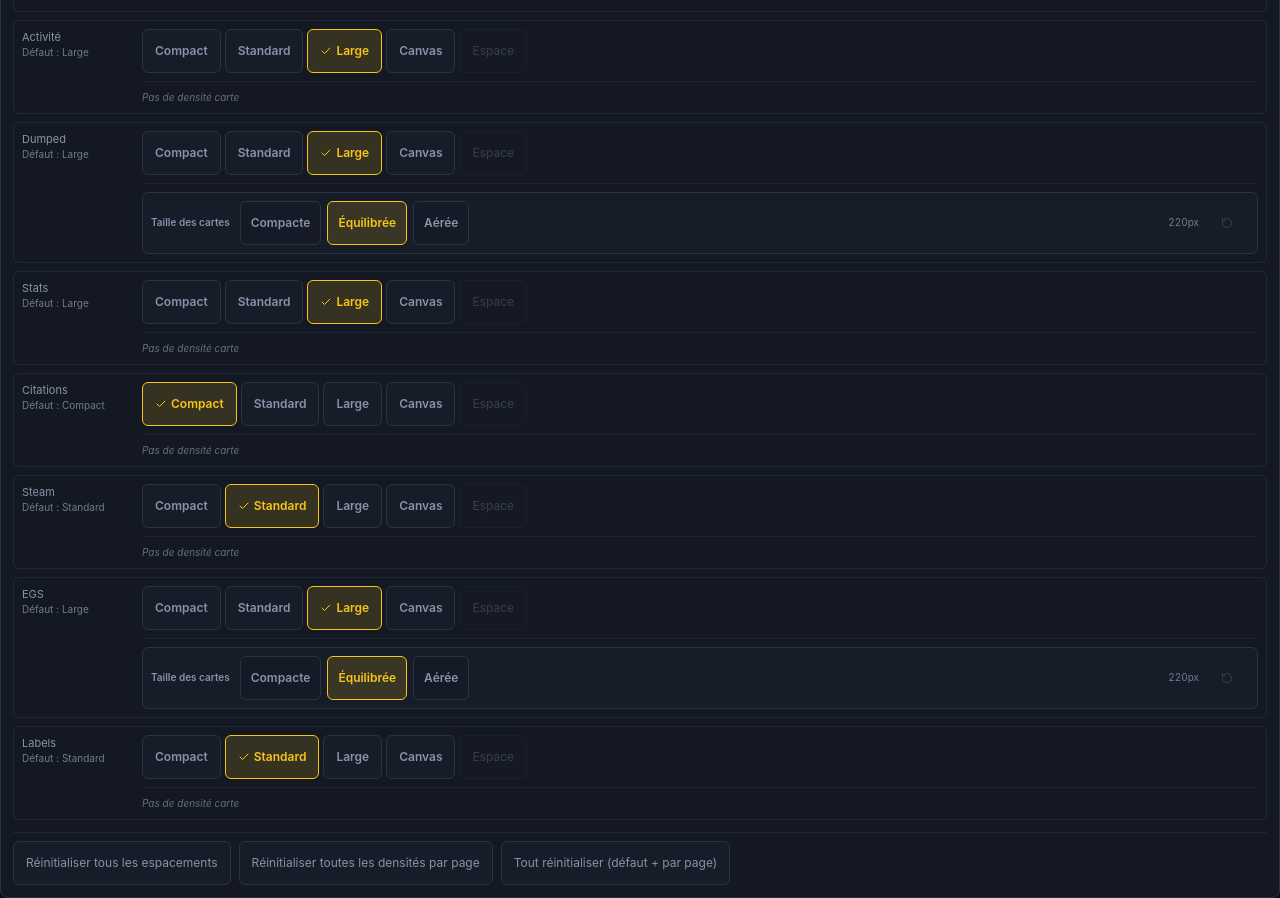
Test: LayoutSettingsTab › applies reset-all actions
(page scrolled)
expect the button "Réinitialiser toutes les densités par page" is enabled: met, box x1=239 y1=840 x2=493 y2=884
Click the button "Réinitialiser tous les espacements". click: [122, 862]
box: x1=13 y1=840 x2=231 y2=884
(page scrolled)
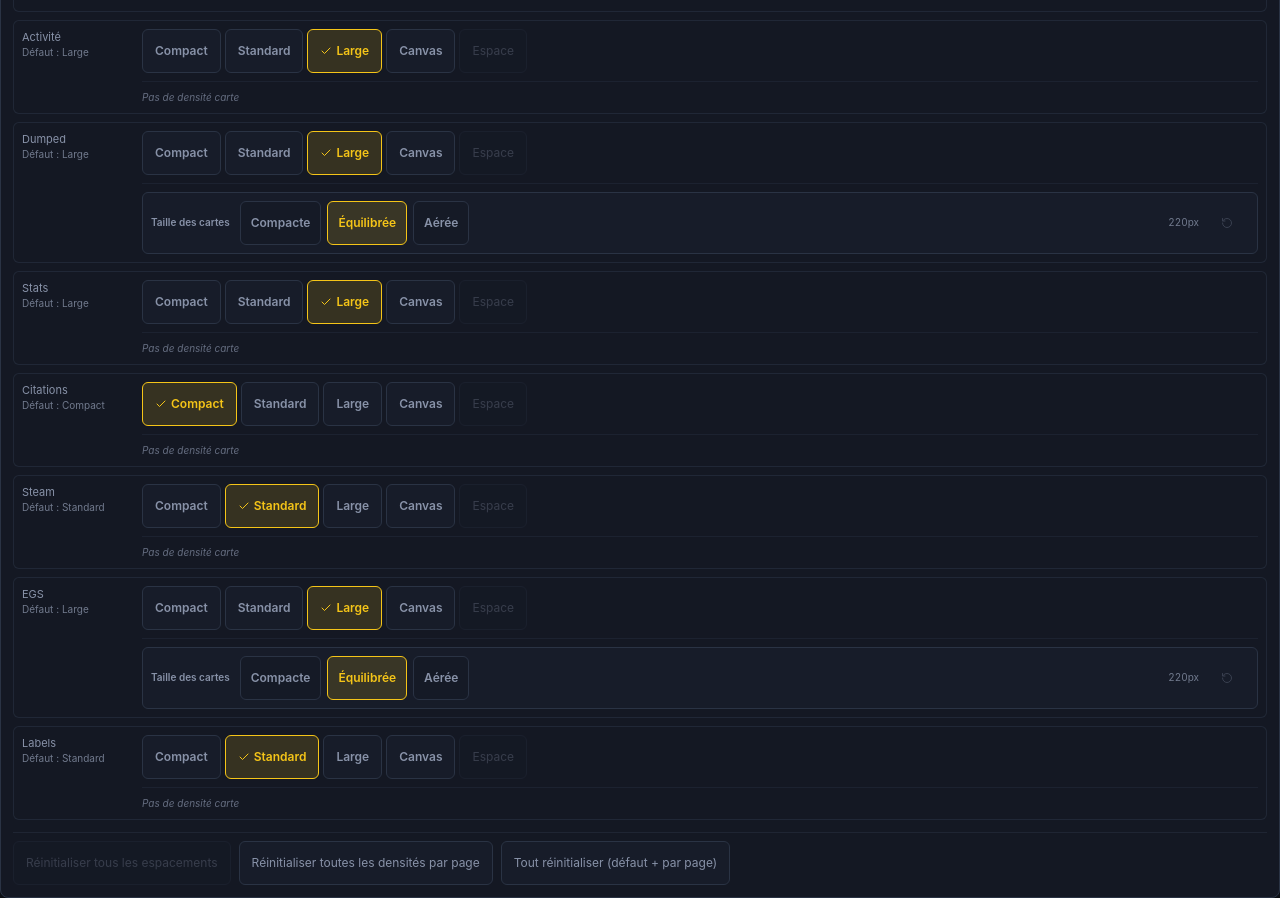
Click the button "Réinitialiser toutes les densités par page". click: [366, 862]
box: x1=239 y1=840 x2=493 y2=884
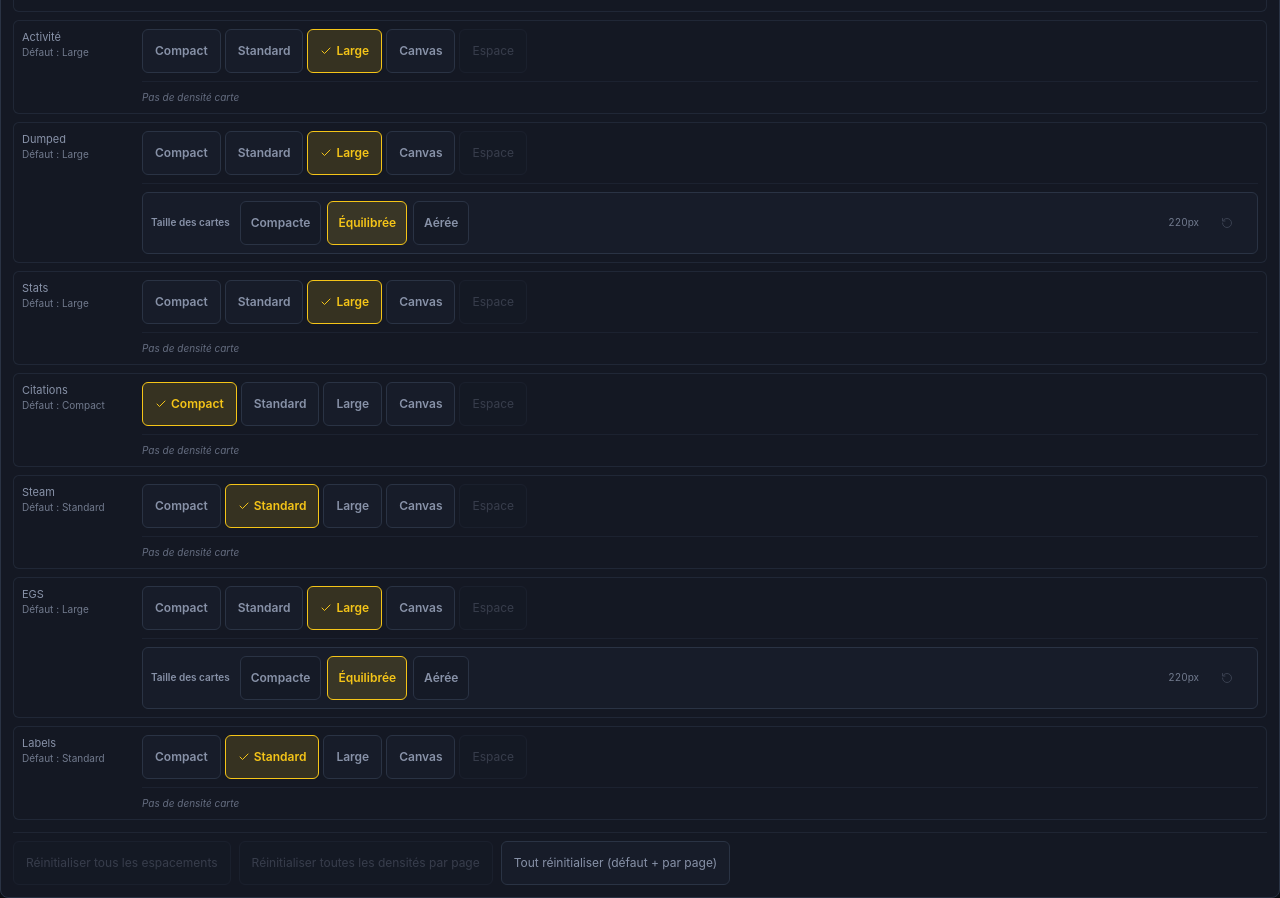
expect the button "Réinitialiser tous les espacements" is disabled: met, box x1=13 y1=840 x2=231 y2=884
expect the button "Réinitialiser toutes les densités par page" is disabled: met, box x1=239 y1=840 x2=493 y2=884
